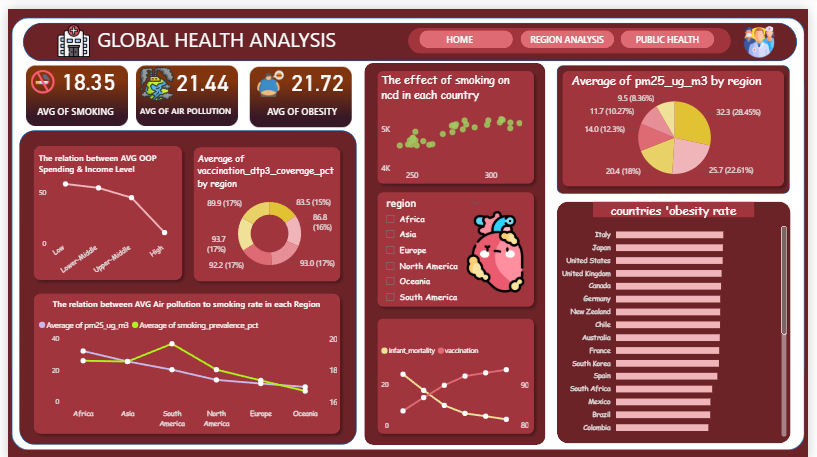

This screenshot's page, from the dashboard's own definition file:
{"tool":"powerbi","page":{"name":"PUBLIC HEALTH ANALYSIS","canvas":[1280,720],"ordinal":2},"visuals":[{"type":"shape","box":[5,13.3,1268.3,691.7],"z":0,"group":"g1"},{"type":"group","id":"g1","title":"Group 1","box":[5,13.3,1268.3,691.7],"z":0},{"type":"shape","box":[23.3,21.6,1238.3,61.7],"z":1000,"group":"g1"},{"type":"shape","box":[657.1,34.3,150,28.6],"z":1000},{"type":"shape","box":[980,34.3,150,28.6],"z":2000},{"type":"shape","box":[638.9,29.4,516.7,41.7],"z":3000,"group":"g1"},{"type":"shape","box":[820,34.3,150,28.6],"z":3000},{"type":"image","box":[381.7,53.3,173.3,173.3],"z":4000},{"type":"textbox","box":[136.7,21.6,490,61.7],"z":5000,"group":"g1"},{"type":"image","box":[200,51.7,173.3,173.3],"z":5000},{"type":"image","box":[1170,20,60,65],"z":6000,"group":"g1"},{"type":"image","box":[23.3,51.7,173.3,173.3],"z":6000},{"type":"image","box":[70,20,66.7,61.7],"z":7000,"group":"g1"},{"type":"shape","box":[18.3,193.3,540,503.3],"z":7000},{"type":"shape","box":[878.6,90,372.9,205.7],"z":8000},{"type":"shape","box":[570,85,290,611.7],"z":9000},{"type":"shape","box":[878.6,308.6,374.3,387.1],"z":10000},{"type":"shape","box":[32.9,445.7,508.6,242.9],"z":11000},{"type":"shape","box":[288.6,211.4,252.9,232.9],"z":12000},{"type":"shape","box":[32.9,210,255.7,232.9],"z":13000},{"type":"donutChart","fields":{"Series":["global_health_2010_2024.region"],"Y":["Avg(global_health_2010_2024.vaccination_dtp3_coverage_pct)"]},"box":[297.1,227.1,241.4,202.9],"z":14000},{"type":"lineChart","title":"The relation between AVG OOP Spending & Income Level","fields":{"Category":["global_health_2010_2024.income_level"],"Y":["Avg(global_health_2010_2024.oop_share_health_spending_pct)"]},"box":[44.3,262.9,232.9,172.9],"z":15000},{"type":"lineChart","fields":{"Y":["Avg(global_health_2010_2024.pm25_ug_m3)"],"Category":["global_health_2010_2024.region"],"Y2":["Avg(global_health_2010_2024.smoking_prevalence_pct)"]},"box":[44.3,485.7,487.1,192.9],"z":16000},{"type":"shape","box":[935.7,308.6,258.6,25.7],"z":17000},{"type":"clusteredBarChart","title":" countries ''obesity rate ","fields":{"Y":["Avg(global_health_2010_2024.obesity_rate_pct)"],"Category":["global_health_2010_2024.country"]},"box":[878.6,307.1,372.9,381.4],"z":18000},{"type":"shape","box":[581.4,90,268.6,198.6],"z":19000},{"type":"scatterChart","title":"The effect of smoking  on ncd in each country","fields":{"X":["Sum(global_health_2010_2024.smoking_prevalence_pct)"],"Y":["Sum(global_health_2010_2024.ncd_mortality_per_100k)"],"Category":["global_health_2010_2024.country"]},"box":[592.9,100,245.7,184.3],"z":20000},{"type":"shape","box":[581.4,284.3,268.6,201.4],"z":21000},{"type":"shape","box":[581.4,485.7,268.6,202.9],"z":22000},{"type":"shape","box":[878.6,90,372.9,202.9],"z":23000},{"type":"pieChart","fields":{"Category":["global_health_2010_2024.region"],"Y":["Avg(global_health_2010_2024.pm25_ug_m3)"]},"box":[895.7,100,341.4,185.7],"z":24000},{"type":"lineChart","fields":{"Category":["global_health_2010_2024.region"],"Y":["Avg(global_health_2010_2024.infant_mortality_per_1000)"],"Y2":["Avg(global_health_2010_2024.vaccination_dtp3_coverage_pct)"]},"box":[592.9,527.1,245.7,151.4],"z":25000},{"type":"textbox","box":[44.3,224.3,221.4,60],"z":26000},{"type":"textbox","box":[44.3,457.1,487.1,28.6],"z":27000},{"type":"image","box":[710,292.9,140,192.9],"z":28000},{"type":"image","box":[381.4,91.4,75.7,55.7],"z":29000},{"type":"image","box":[32.9,91.4,47.1,48.6],"z":30000},{"type":"slicer","fields":{"Values":["global_health_2010_2024.region"]},"box":[592.9,295.7,175.7,198.6],"z":31000},{"type":"card","fields":{"Values":["global_health_2010_2024.AVG OBESITY"]},"box":[435.7,94.3,118.6,42.9],"z":32000},{"type":"card","fields":{"Values":["global_health_2010_2024.AVG AIR POLLUTION"]},"box":[242.9,94.3,138.6,42.9],"z":33000},{"type":"card","fields":{"Values":["global_health_2010_2024.AVG SMOKING"]},"box":[70,92.9,118.6,42.9],"z":34000},{"type":"image","box":[200,85.7,75.7,68.6],"z":35000},{"type":"textbox","box":[401.4,147.1,137.1,42.9],"z":36000},{"type":"textbox","box":[188.6,147.1,192.9,45.7],"z":37000},{"type":"textbox","box":[32.9,147.1,155.7,42.9],"z":38000},{"type":"textbox","box":[657.1,34.3,132.9,37.1],"z":39000},{"type":"textbox","box":[807.1,34.3,172.9,28.6],"z":40000},{"type":"textbox","box":[980,34.3,150,37.1],"z":41000}]}

Visuals, with their boxes in screenshot pixels (x1, y1, x2, y2), scaled from the page's 1280x720 canvas onto the 817x457 screenshot:
shape: 3, 8, 813, 447
"Group 1" group: 3, 8, 813, 447
shape: 15, 14, 805, 53
shape: 419, 22, 515, 40
shape: 626, 22, 721, 40
shape: 408, 19, 738, 45
shape: 523, 22, 619, 40
image: 244, 34, 354, 144
textbox: 87, 14, 400, 53
image: 128, 33, 238, 143
image: 747, 13, 785, 54
image: 15, 33, 125, 143
image: 45, 13, 87, 52
shape: 12, 123, 356, 442
shape: 561, 57, 799, 188
shape: 364, 54, 549, 442
shape: 561, 196, 800, 442
shape: 21, 283, 346, 437
shape: 184, 134, 346, 282
shape: 21, 133, 184, 281
donutChart - global_health_2010_2024.region x Avg(global_health_2010_2024.vaccination_dtp3_coverage_pct): 190, 144, 344, 273
"The relation between AVG OOP Spending & Income Level" lineChart: 28, 167, 177, 277
lineChart - Avg(global_health_2010_2024.pm25_ug_m3) x global_health_2010_2024.region: 28, 308, 339, 431
shape: 597, 196, 762, 212
" countries ''obesity rate " clusteredBarChart: 561, 195, 799, 437
shape: 371, 57, 543, 183
"The effect of smoking  on ncd in each country" scatterChart: 378, 63, 535, 180
shape: 371, 180, 543, 308
shape: 371, 308, 543, 437
shape: 561, 57, 799, 186
pieChart - global_health_2010_2024.region x Avg(global_health_2010_2024.pm25_ug_m3): 572, 63, 790, 181
lineChart - global_health_2010_2024.region x Avg(global_health_2010_2024.infant_mortality_per_1000): 378, 335, 535, 431
textbox: 28, 142, 170, 180
textbox: 28, 290, 339, 308
image: 453, 186, 543, 308
image: 243, 58, 292, 93
image: 21, 58, 51, 89
slicer - global_health_2010_2024.region: 378, 188, 491, 314
card - global_health_2010_2024.AVG OBESITY: 278, 60, 354, 87
card - global_health_2010_2024.AVG AIR POLLUTION: 155, 60, 244, 87
card - global_health_2010_2024.AVG SMOKING: 45, 59, 120, 86
image: 128, 54, 176, 98
textbox: 256, 93, 344, 121
textbox: 120, 93, 244, 122
textbox: 21, 93, 120, 121
textbox: 419, 22, 504, 45
textbox: 515, 22, 626, 40
textbox: 626, 22, 721, 45
